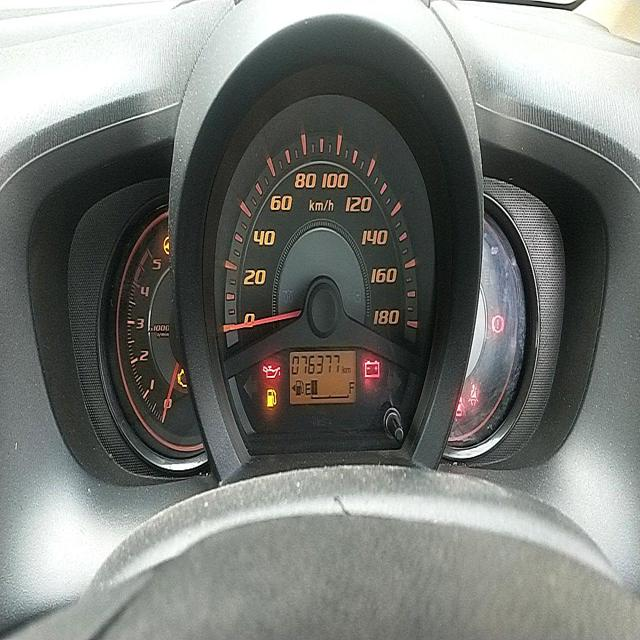odometer: (289, 351, 343, 379)
